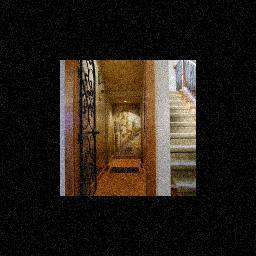Escaleras: (160, 65, 196, 193)
Puerta: (78, 64, 96, 194)
